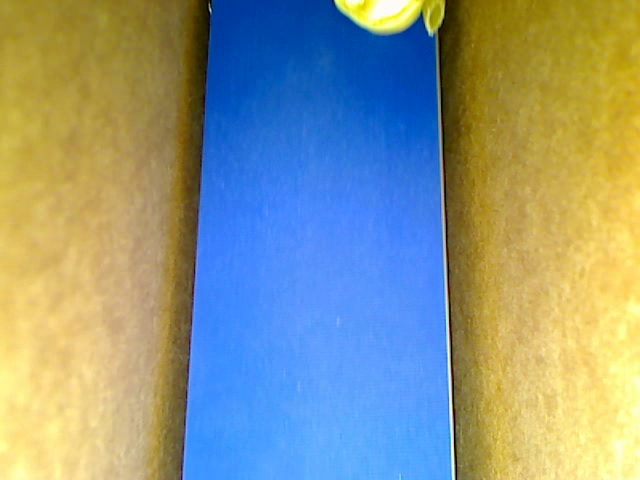penne: (421, 1, 446, 37)
tortellini: (333, 1, 426, 37)
